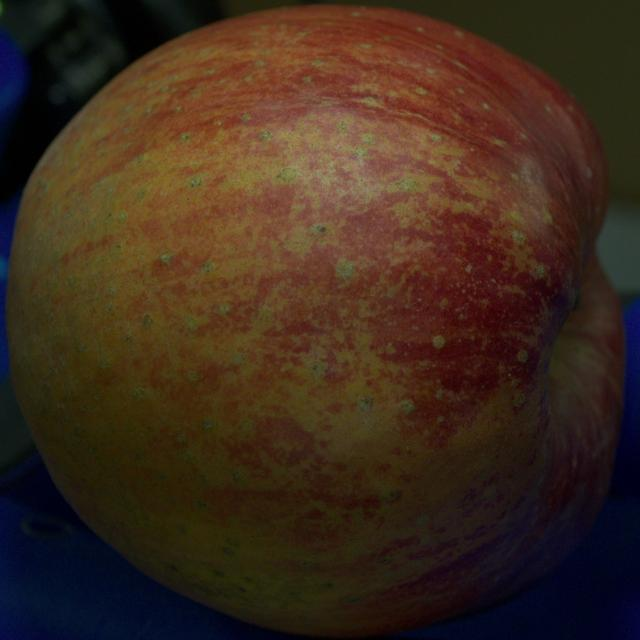apple: (6, 6, 623, 637)
